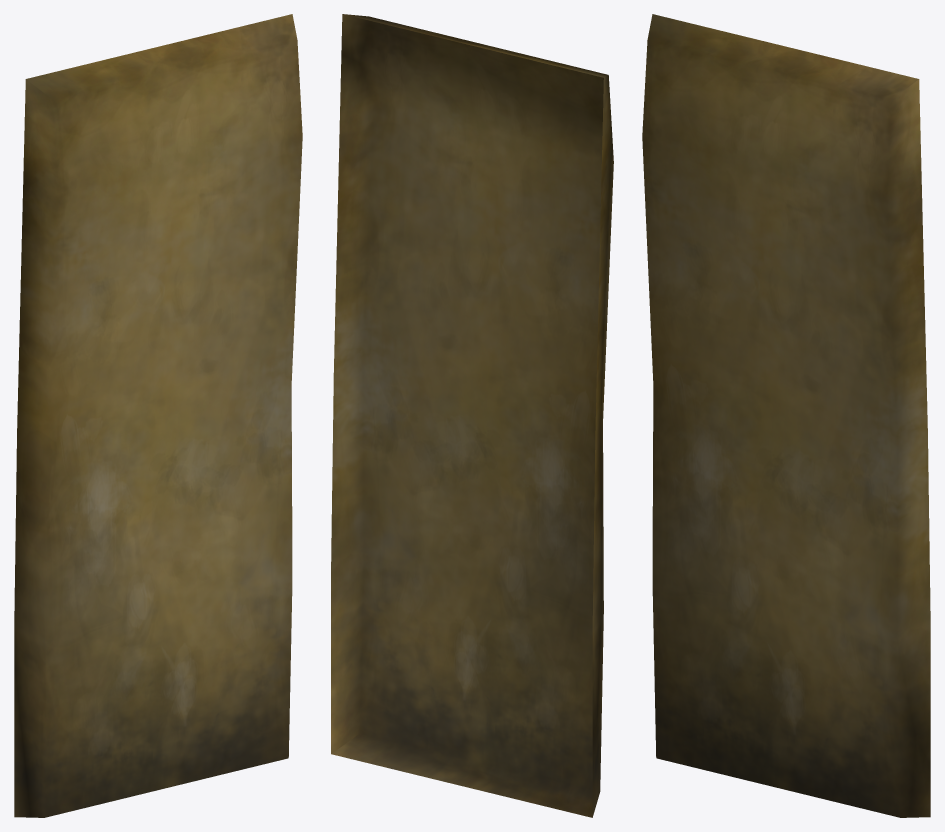
The model's file is Wall_Batts2.fbx.
The picture shows the model from 3 angles, left to right: view 1: azimuth 30°, elevation 25°; view 2: azimuth 150°, elevation 25°; view 3: azimuth 330°, elevation 25°; orthographic projection.
Parts seen in each view (by area): view 1: Batt_2; view 2: Batt_2; view 3: Batt_2.
Part boxes in pixels (<box>): Batt_2: <box>14,14,302,817</box>; Batt_2: <box>331,14,613,817</box>; Batt_2: <box>642,14,930,817</box>.
Bounding box in the file's own units: 90.51 × 242 × 19.27.
